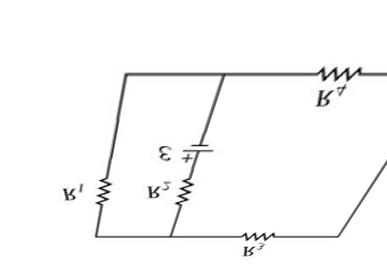resistor: (311, 50, 371, 77), (89, 171, 125, 212), (172, 173, 202, 212), (234, 218, 287, 240)
